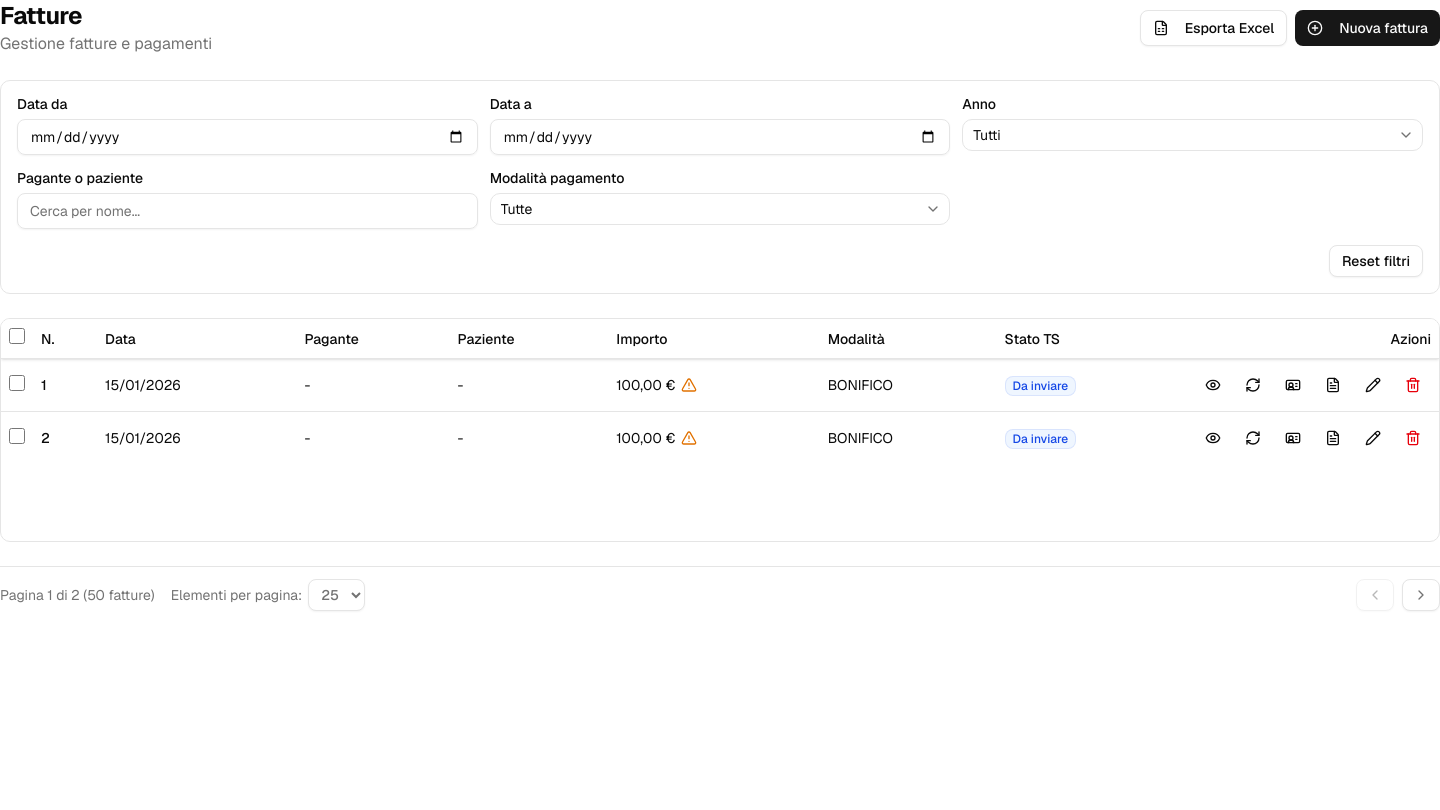
Test case: InvoicesManager › con righe selezionate: il dialog di export mostra il conteggio degli id selezionati, non totalCount
Click the checkbox named "Seleziona fattura 1" at coordinates (17, 382), box [9,374,25,390]
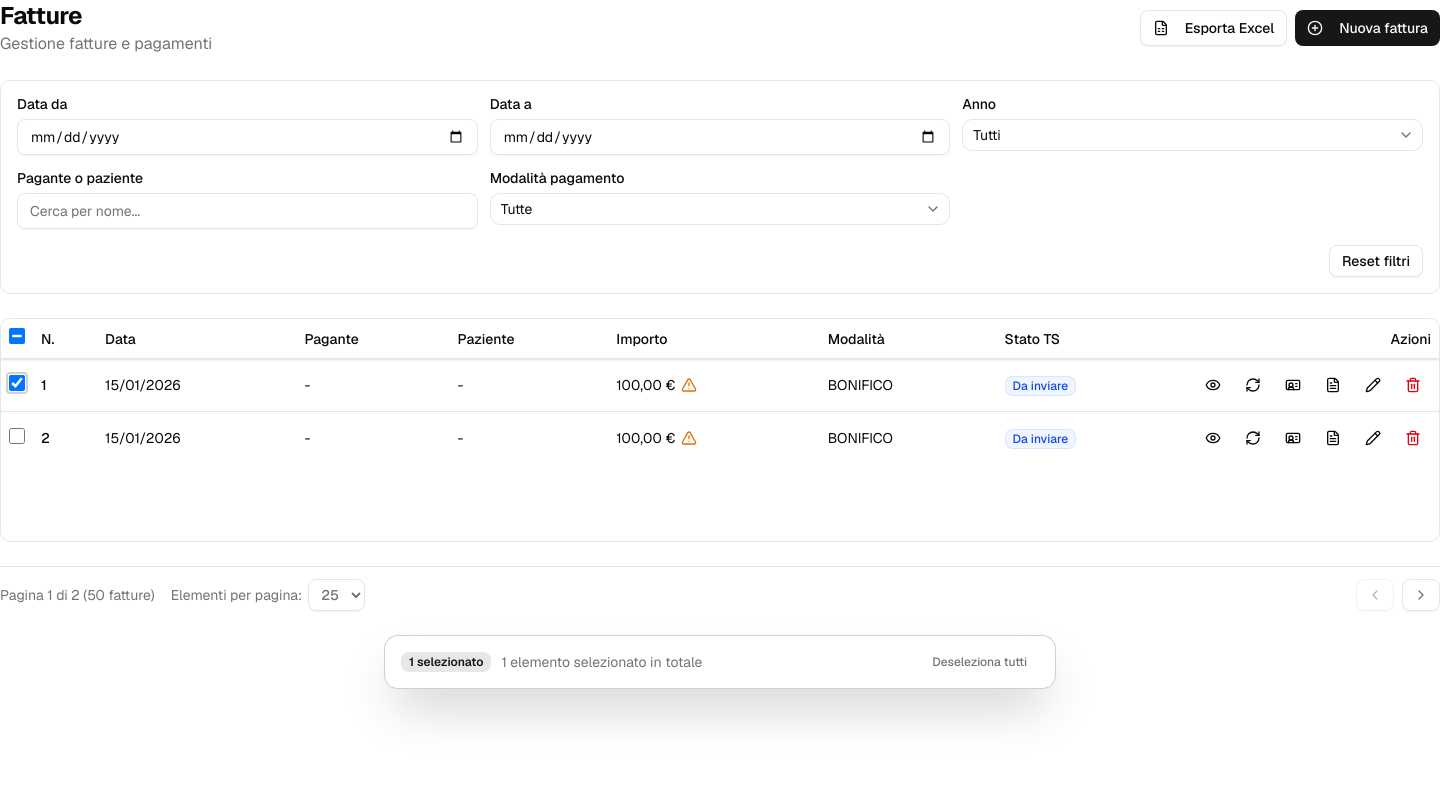
Click the button "Esporta Excel" at coordinates (1214, 28), box [1140,10,1287,46]
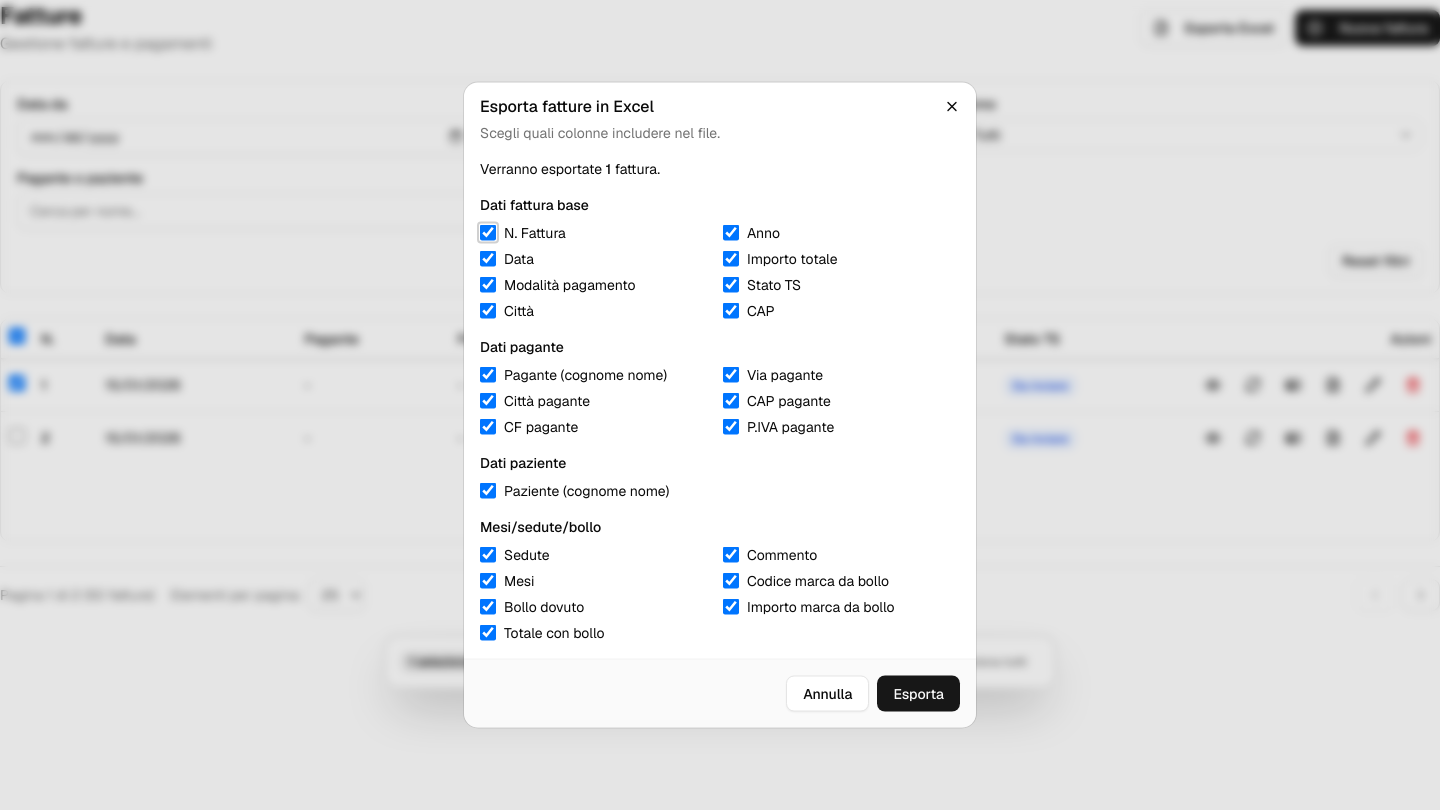
Now the text "1" is shown, box [606,160,611,178]
